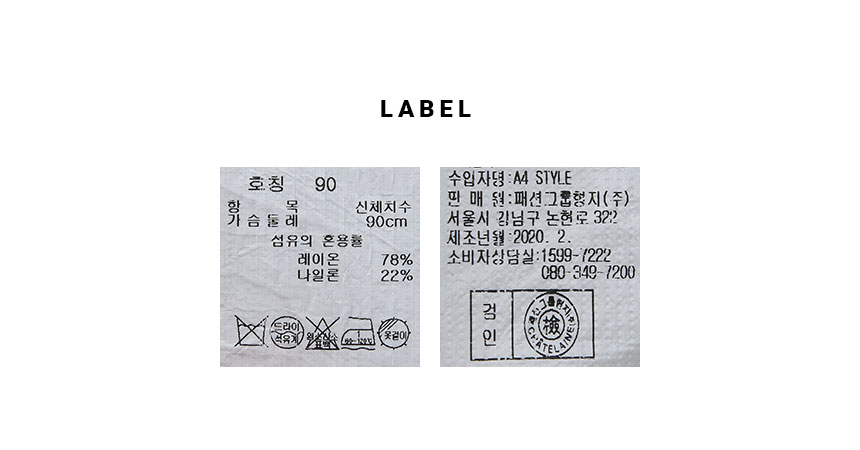KR_dry_clean_petroleum: (269, 313, 304, 349)
KR_hang_dry_in_shade: (377, 314, 411, 350)
KR_iron_low_temp_with_cloth: (341, 315, 377, 354)
KR_no_bleach: (304, 314, 342, 353)
KR_no_wash: (233, 313, 269, 351)
